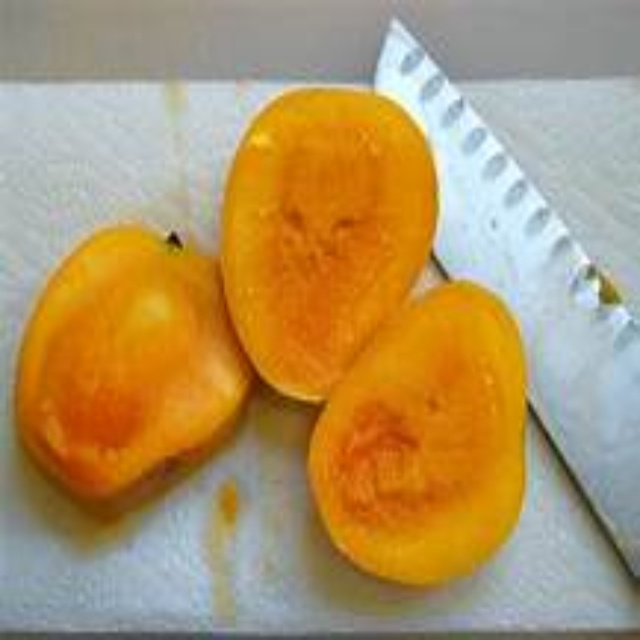mango: (312, 280, 533, 587), (226, 86, 434, 398)
